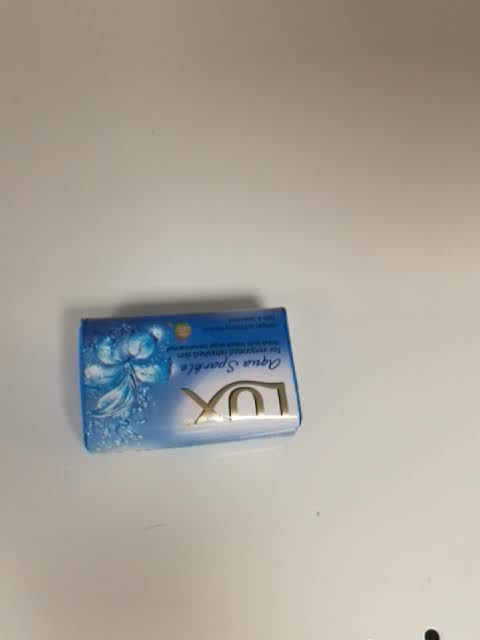soap: (73, 306, 305, 456)
